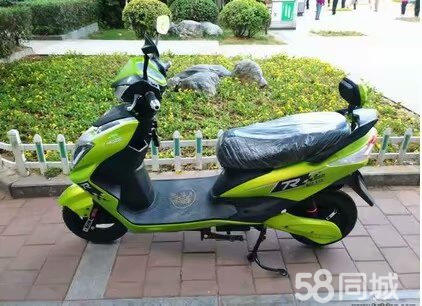电动车: (47, 11, 390, 275)
